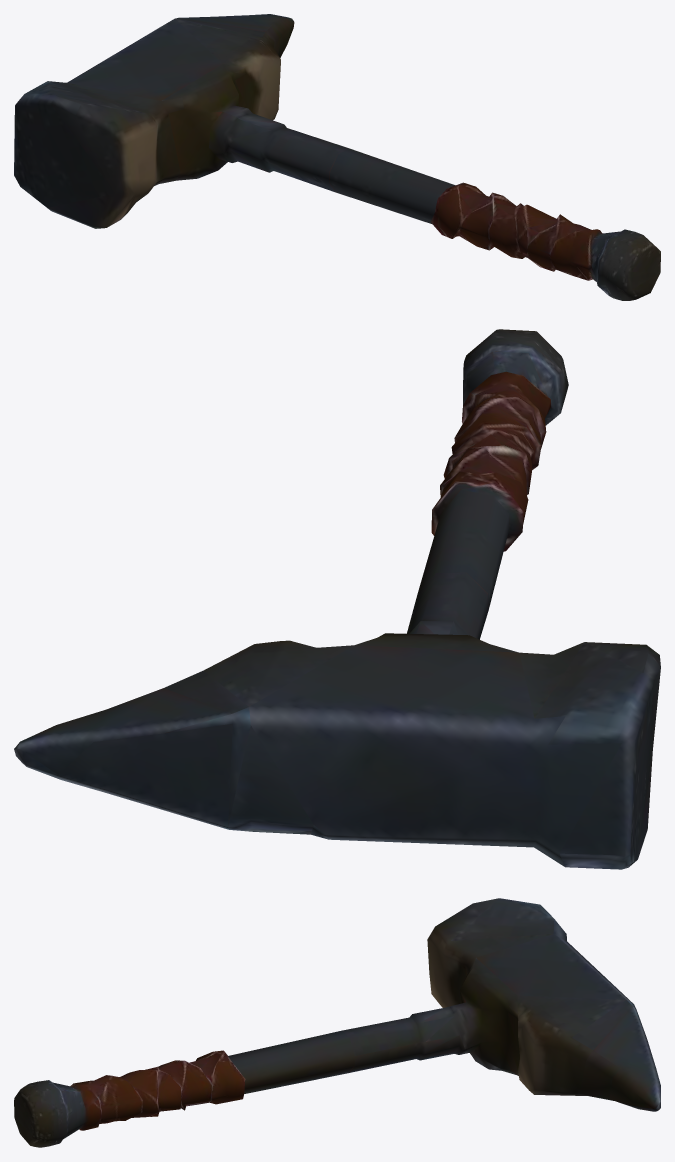
The model's file is g_maul.fbx.
3 renders of one model, top to bottom at view 1: azimuth 30°, elevation 25°; view 2: azimuth 150°, elevation 25°; view 3: azimuth 270°, elevation 25°, orthographic. The views are drawn at different scales.
Parts seen in each view (by area): view 1: tripo_node_32c00ead-889c-426a-88e1-6bf1217d36d6; view 2: tripo_node_32c00ead-889c-426a-88e1-6bf1217d36d6; view 3: tripo_node_32c00ead-889c-426a-88e1-6bf1217d36d6.
Part boxes in pixels (left/top/right/bottom): tripo_node_32c00ead-889c-426a-88e1-6bf1217d36d6: left=14, top=14, right=660, bottom=300; tripo_node_32c00ead-889c-426a-88e1-6bf1217d36d6: left=14, top=329, right=660, bottom=869; tripo_node_32c00ead-889c-426a-88e1-6bf1217d36d6: left=14, top=898, right=660, bottom=1147.
Bounding box in the file's own units: 0.9376 × 0.2954 × 1.5.
1 material, 1 textured.
